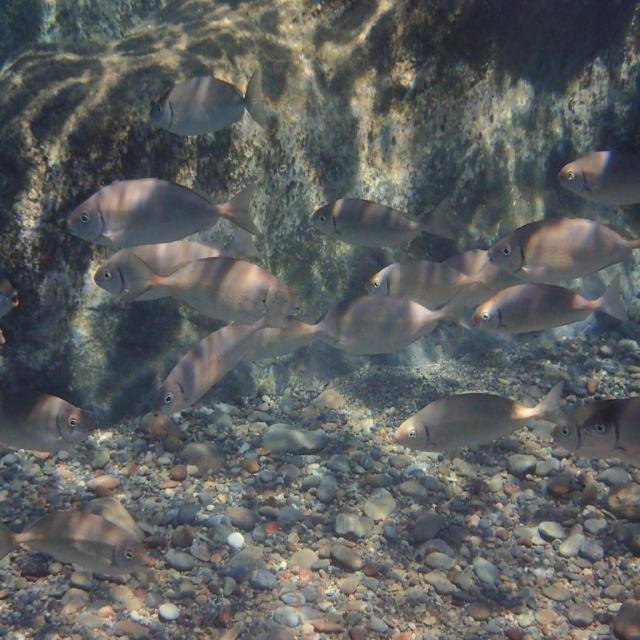Sokar Baligi: (53, 165, 269, 256), (382, 379, 580, 462), (0, 501, 159, 587), (142, 61, 279, 145), (303, 190, 469, 253)
